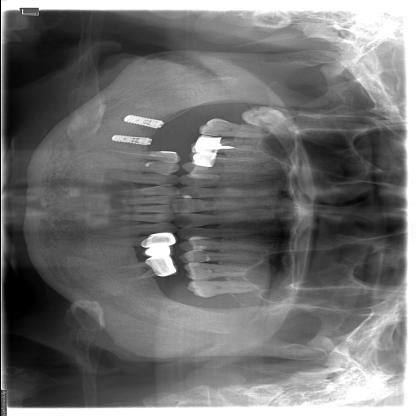ITI: (118, 112, 169, 129), (106, 133, 155, 147)
